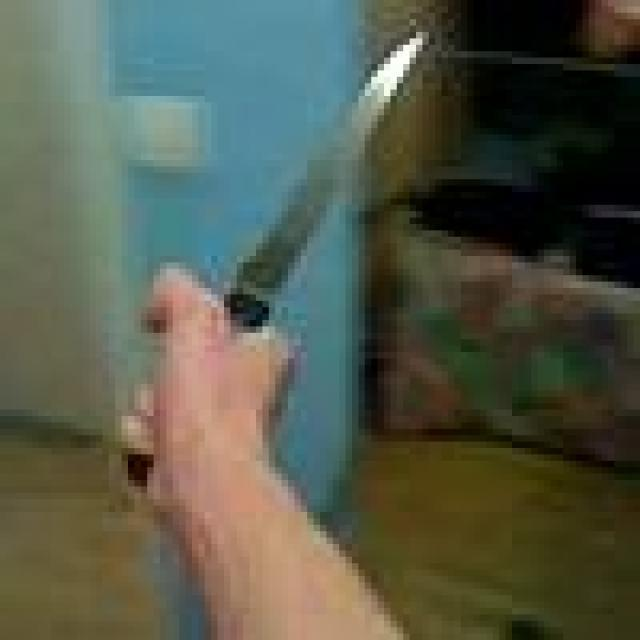faca: (109, 31, 448, 518)
